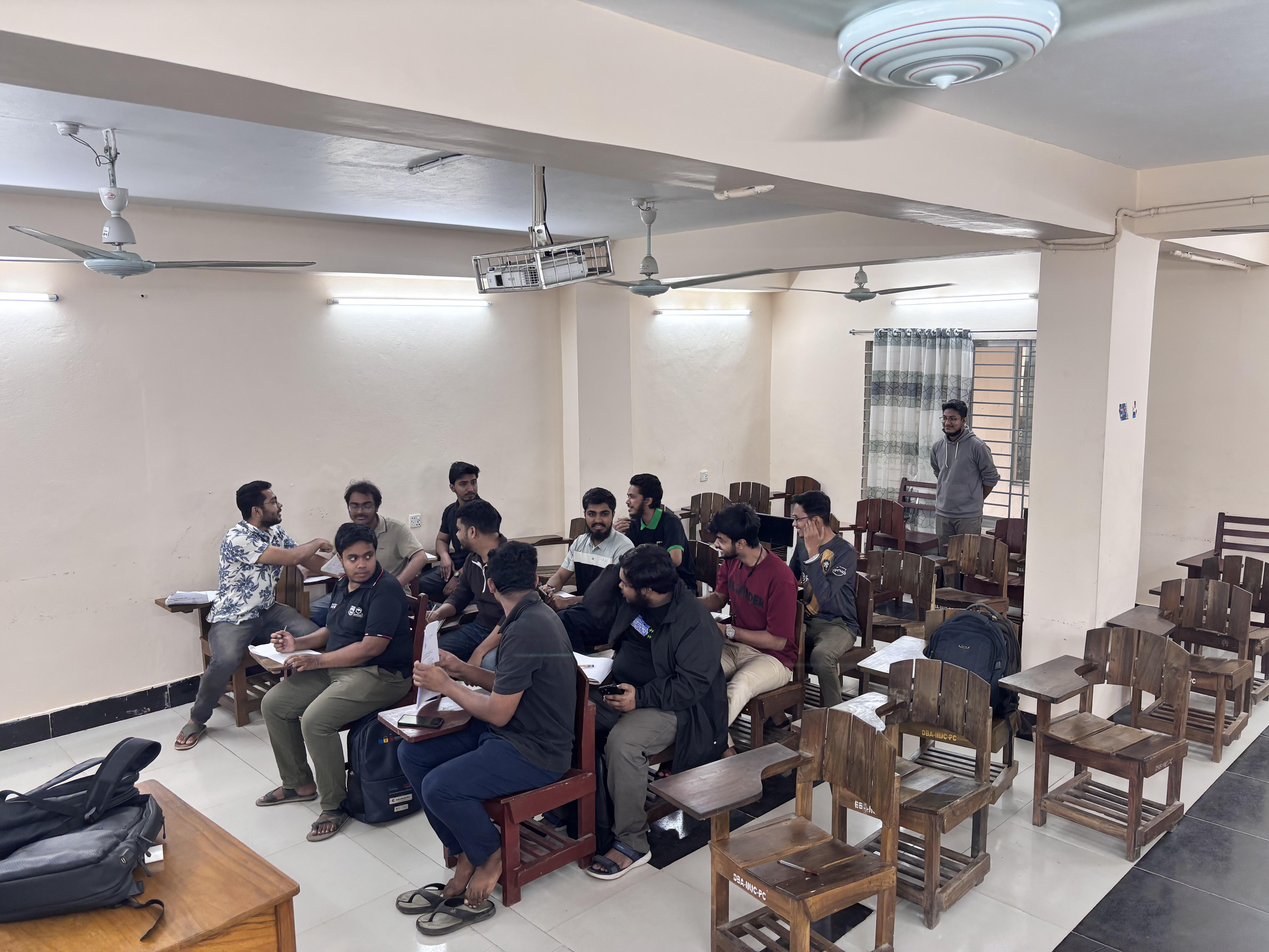copying: (441, 496, 521, 583)
invigilator: (928, 394, 1002, 556)
no_cheating: (551, 484, 635, 604), (327, 471, 414, 537)
side_talking: (420, 541, 580, 718), (701, 501, 800, 677), (213, 477, 334, 618), (786, 486, 865, 653), (622, 471, 678, 549)
suspicious_moving: (271, 524, 420, 704), (431, 454, 504, 506)
using_phone: (581, 546, 702, 734)
